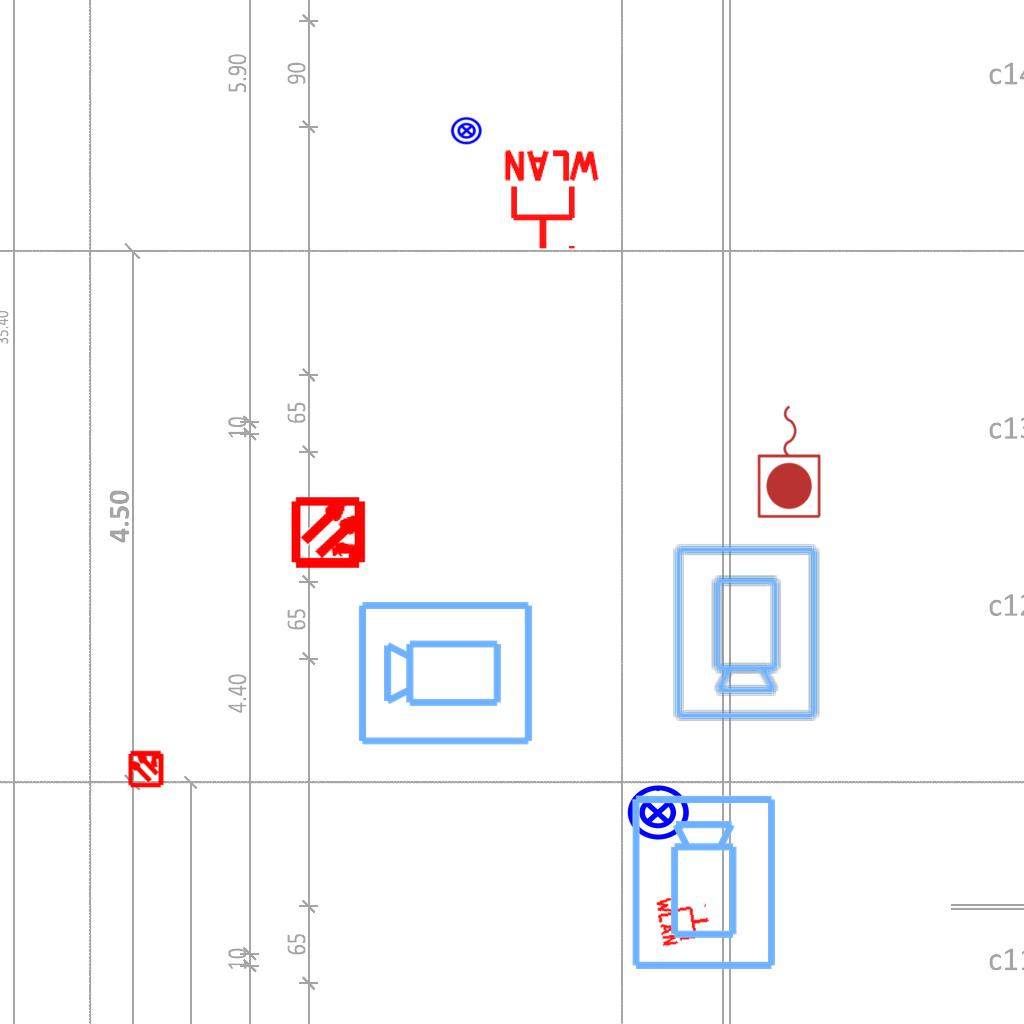KFO_Kamera_mit_Festobjektiv: (668, 541, 822, 723), (355, 595, 537, 749), (628, 792, 782, 974)
OT_Multisensormelder_(Kombination_RMO_WMD): (274, 476, 387, 589), (118, 740, 174, 796)
Taster_beleuchtet: (625, 780, 691, 846), (450, 114, 483, 147)
WLAN: (500, 148, 604, 253), (654, 889, 714, 949)
Zugtaster: (754, 400, 826, 522)
